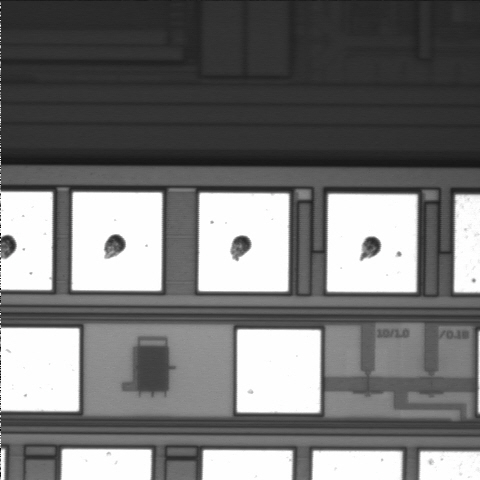pad: (198, 193, 289, 292), (72, 192, 162, 291), (327, 194, 417, 292), (237, 329, 321, 413)
